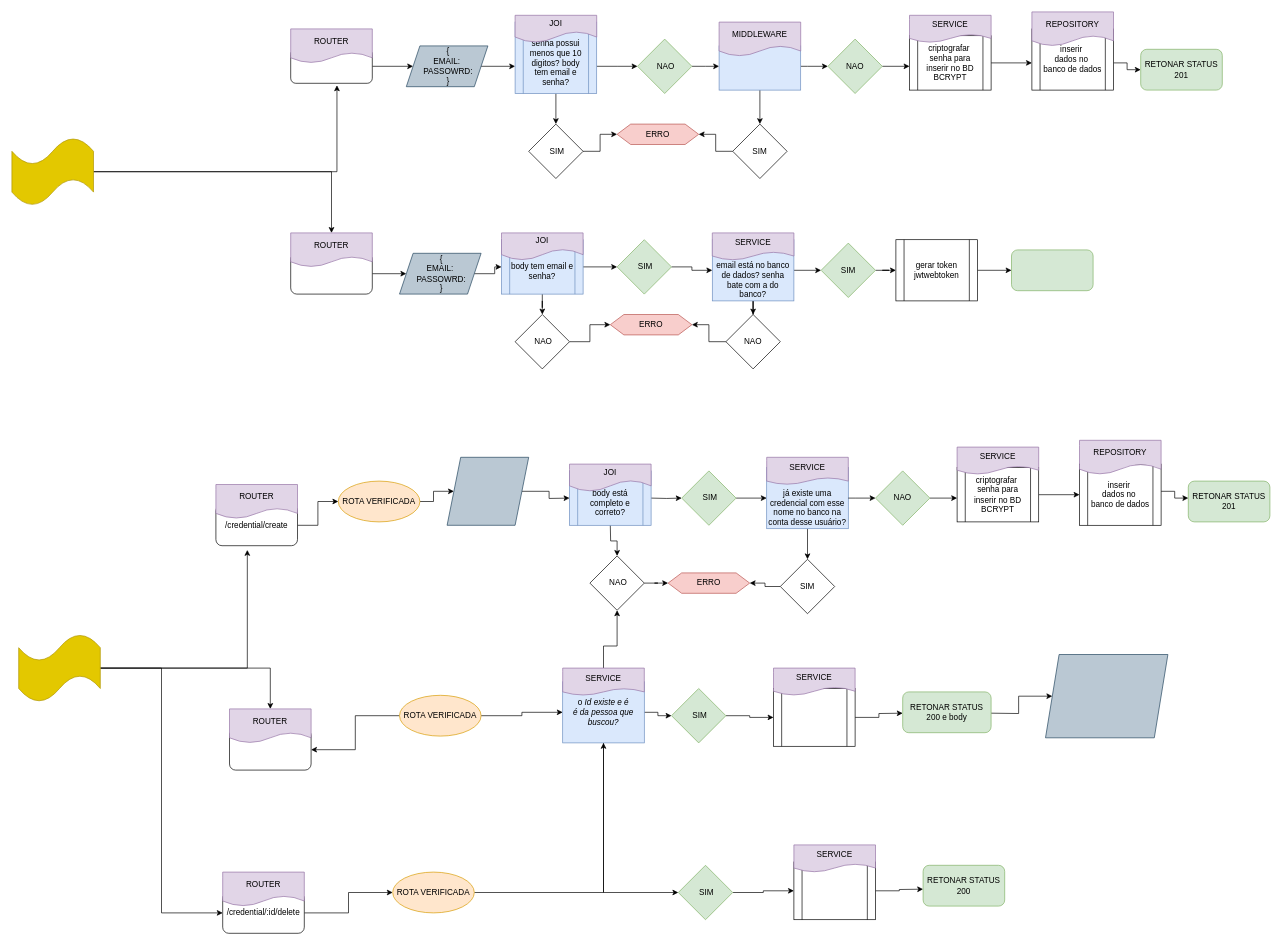
This 1282x945 diagram has some shape labels left out. The shapes that lost their labels are listed below. From the top down, each one's centre as x and y in pixels, then its label:
At (x=331, y=66): "/signup".
At (x=759, y=67): "email ja foi cadastrado?".
At (x=52, y=171): "USER ROUTER".
At (x=331, y=273): "/signin".
At (x=1052, y=270): "RETONAR TOKEN STATUS 200".
At (x=487, y=491): "{ TITULO: URL: NOME: SENHA: }".
At (x=59, y=667): "CREDENTIAL ROUTER".
At (x=1106, y=696): "[ { ID: TITULO : URL : NAME: SENHA: } ]".
At (x=814, y=717): "descriptografar senha para mandar para o front".
At (x=270, y=749): "/credential/:id".
At (x=834, y=890): "deletar credencial".
